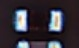COMP: (7, 4, 69, 37)
GAP: (12, 18, 62, 48)
